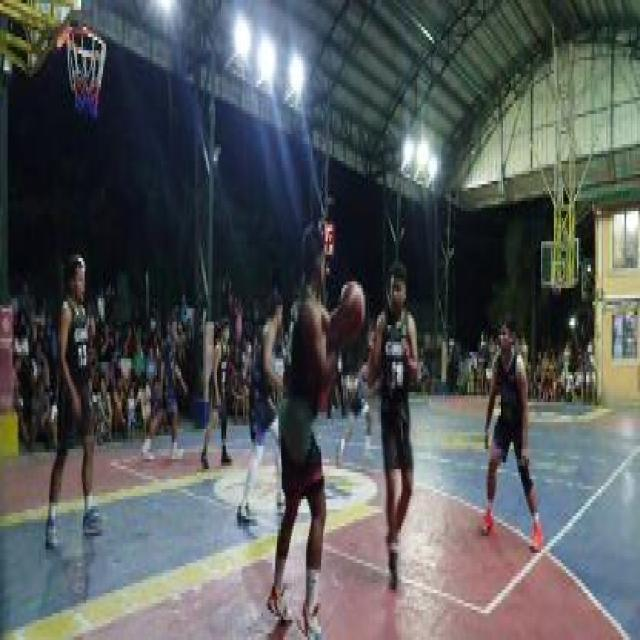Ball: (335, 278, 368, 352)
